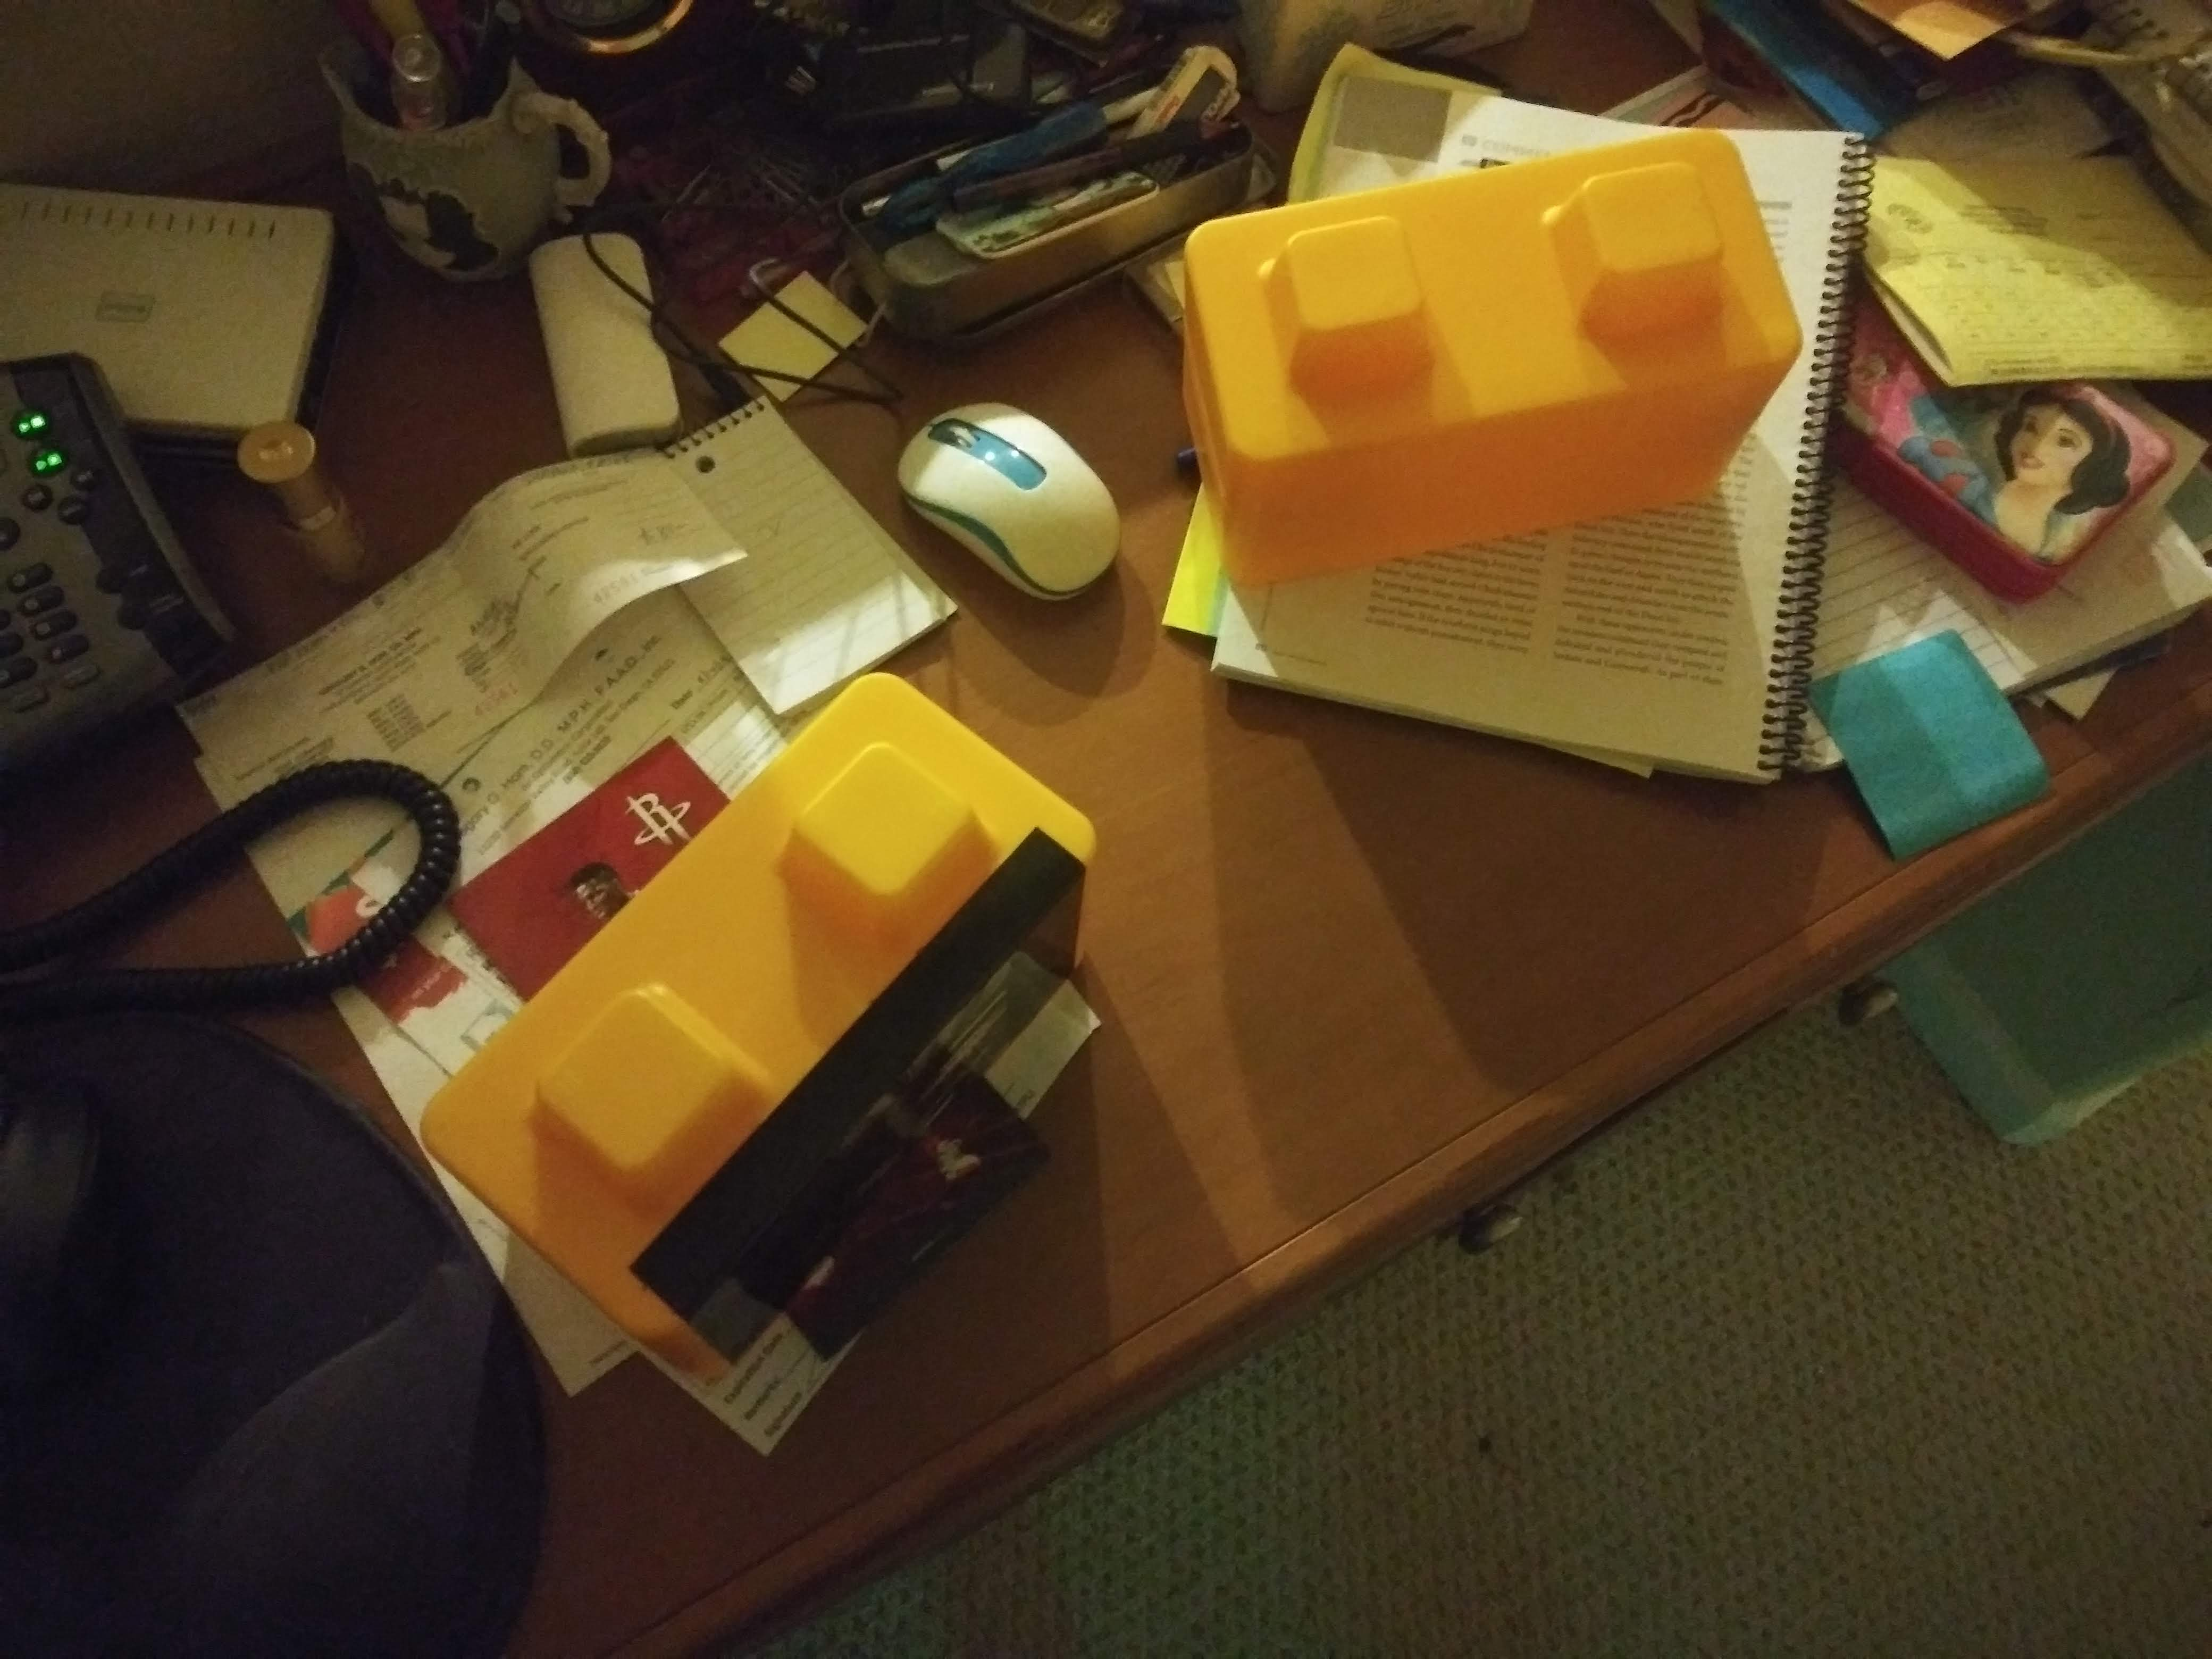skystone: (509, 716, 1040, 1286)
stone: (1193, 173, 1777, 542)
